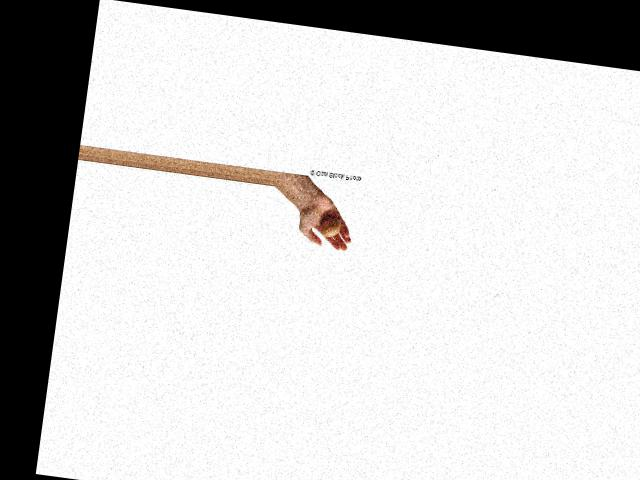egg: (321, 216, 342, 237)
